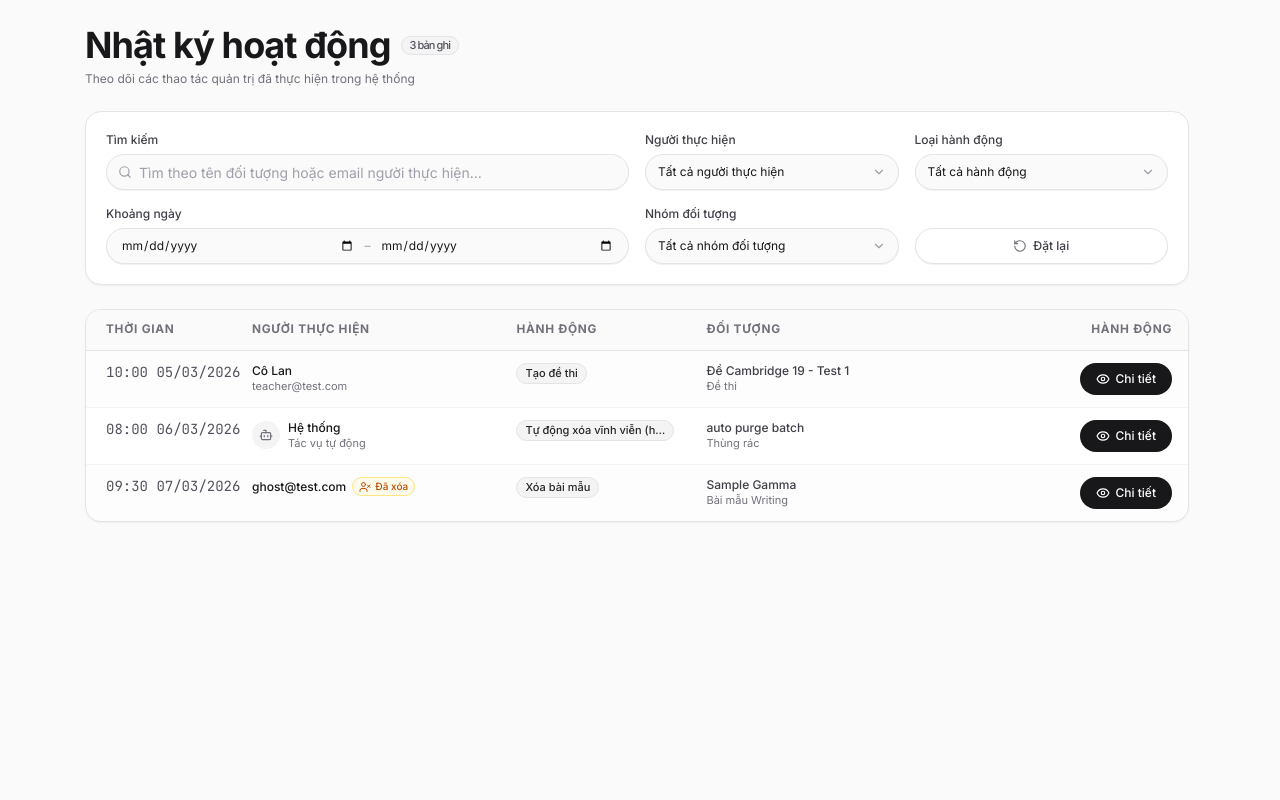
Test: AuditLogs page — bảng + modal chi tiết › Escape closes the detail modal
Expected: the text "Cô Lan" is shown, [252,363,292,379]
Click the button "Chi tiết" in the row of "10:00 05/03/2026": (1126, 379) [1080,363,1172,395]
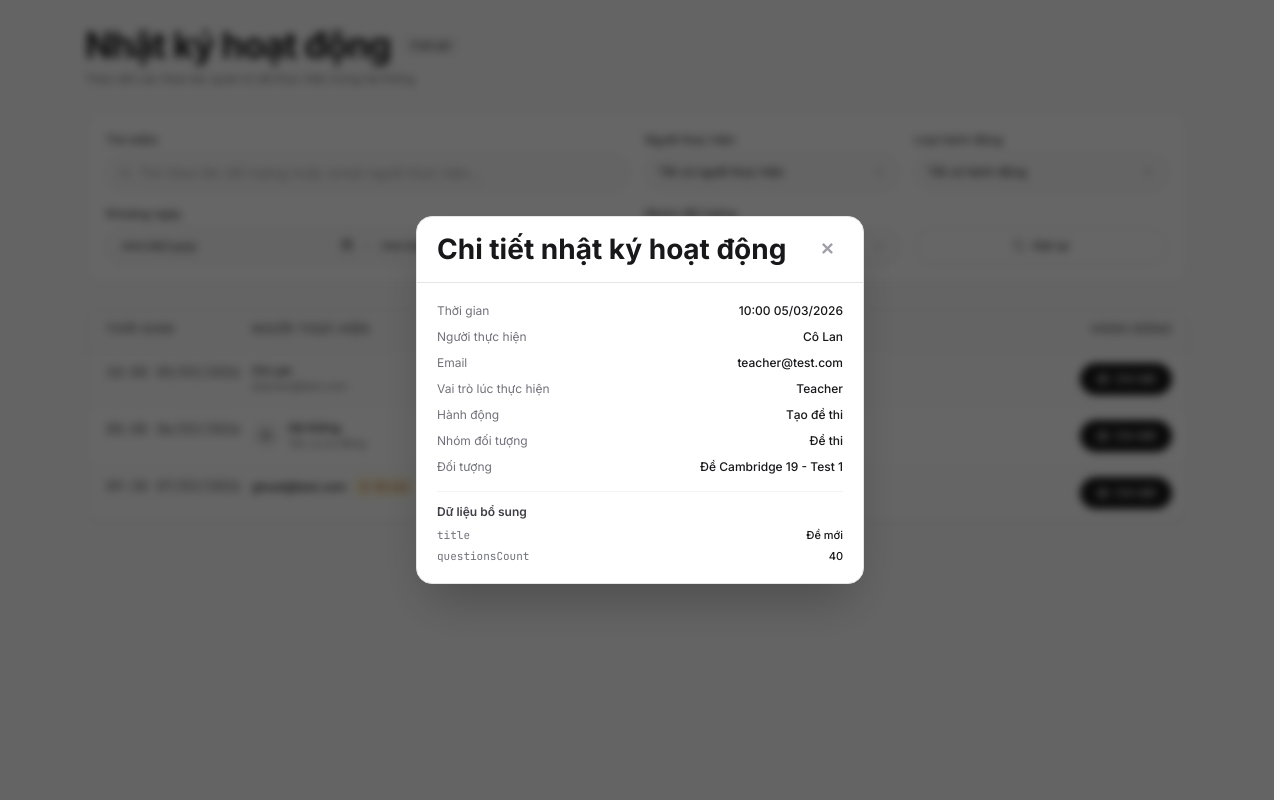
Press Escape in the dialog, box [416,216,864,584]
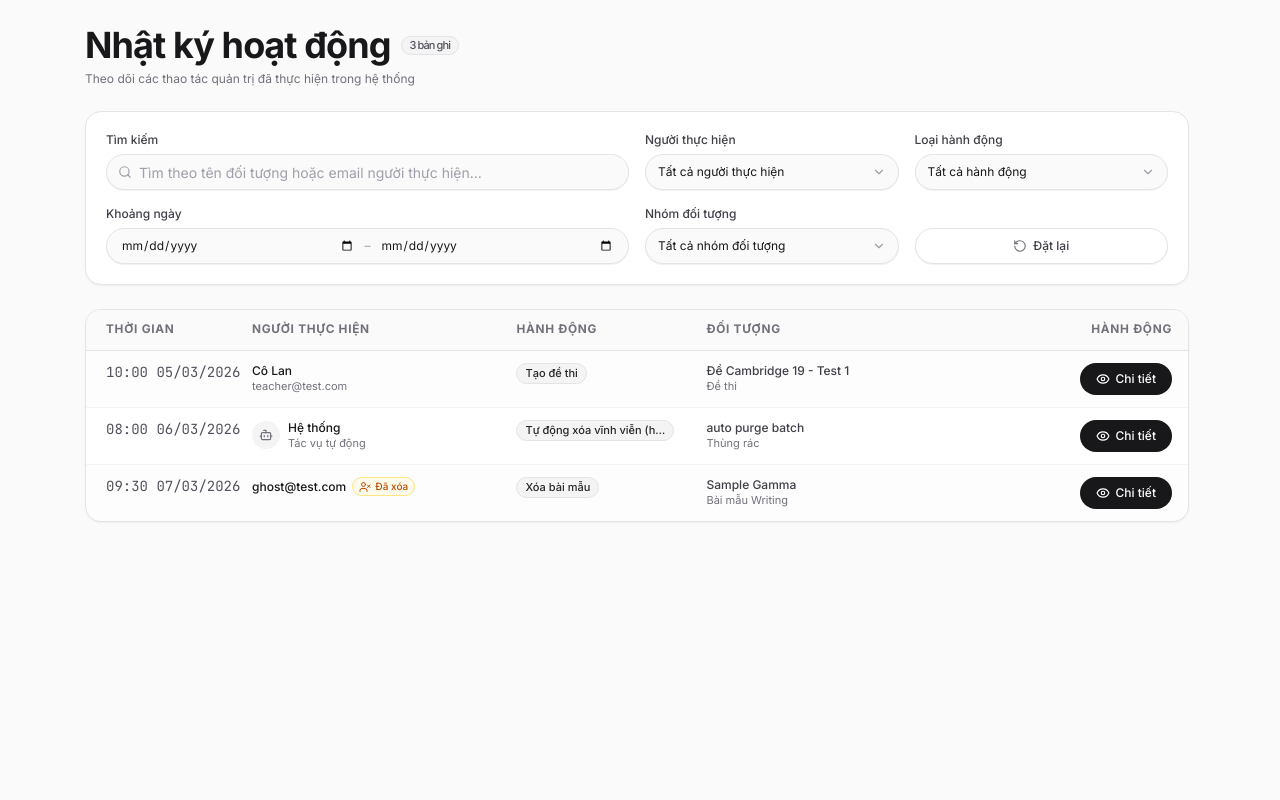
Result: the dialog is gone
